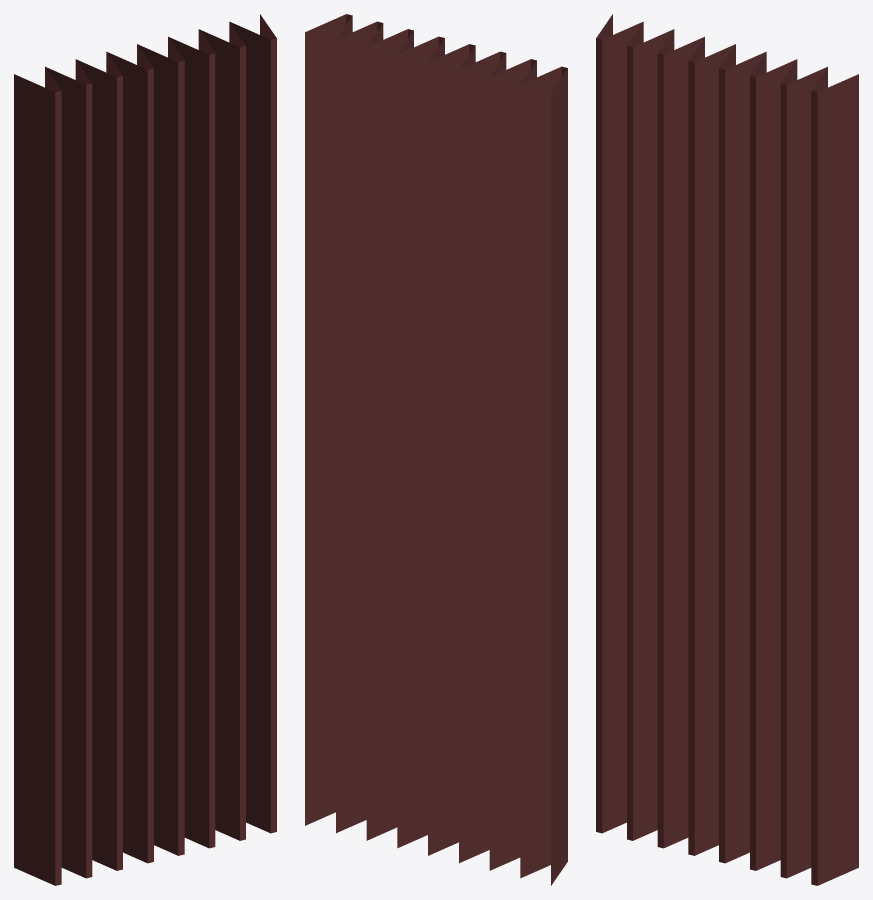
The model's file is curtain.fbx.
The picture shows the model from 3 angles, left to right: view 1: azimuth 30°, elevation 25°; view 2: azimuth 150°, elevation 25°; view 3: azimuth 330°, elevation 25°; orthographic projection.
Visible parts, largest first — view 1: curatin_low; view 2: curatin_low; view 3: curatin_low.
Part boxes in pixels (bbox=[...]): curatin_low: bbox=[14, 14, 276, 885]; curatin_low: bbox=[305, 14, 567, 885]; curatin_low: bbox=[596, 14, 858, 885].
Bounding box in the file's own units: 0.9271 × 2.86 × 0.1896.
